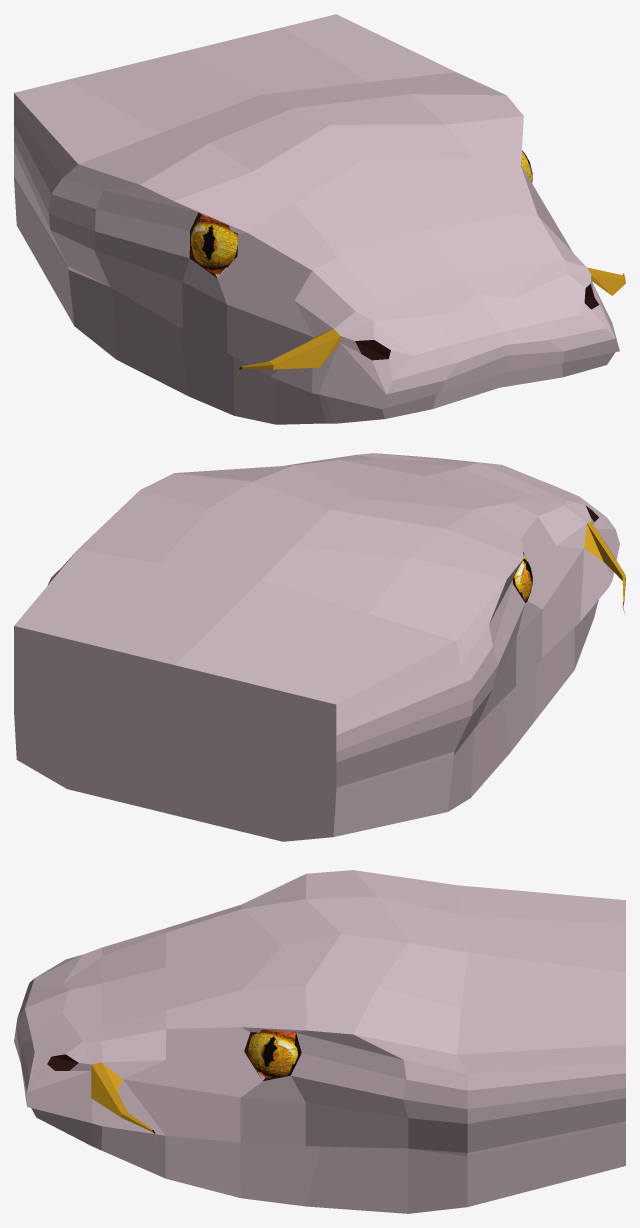
File: snakehead.fbx
3 views of the same model, one above another, from view 1: azimuth 30°, elevation 25°; view 2: azimuth 150°, elevation 25°; view 3: azimuth 270°, elevation 25° (orthographic). The views are drawn at different scales.
Parts seen in each view (by area): view 1: Cube; view 2: Cube; view 3: Cube.
Part boxes in pixels (box(x1,y1,x2,y2)): Cube: box(14, 14, 625, 424); Cube: box(14, 453, 625, 841); Cube: box(14, 870, 625, 1213).
Size of the model in its own units: 199 by 97.53 by 270.
